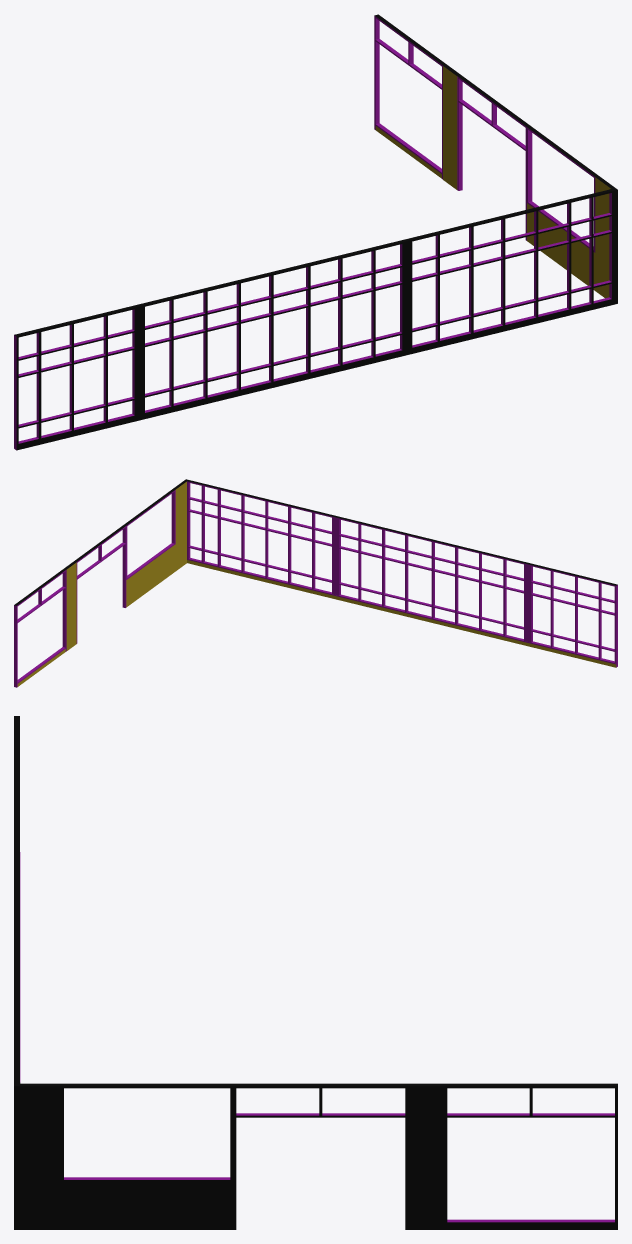
Rendered from Window_Frame.fbx.
The picture shows the model from 3 angles, top to bottom: view 1: azimuth 30°, elevation 25°; view 2: azimuth 150°, elevation 25°; view 3: azimuth 270°, elevation 25°; orthographic projection. The views are drawn at different scales.
Visible parts, largest first — view 1: Window_Frame_Vert; view 2: Window_Frame_Vert; view 3: Window_Frame_Vert.
Part boxes in pixels (x1,y1,x2,y2): Window_Frame_Vert: (14,14,617,450); Window_Frame_Vert: (14,479,617,687); Window_Frame_Vert: (14,716,617,1229).
Bounding box in the file's own units: 2054 × 372 × 1417.
